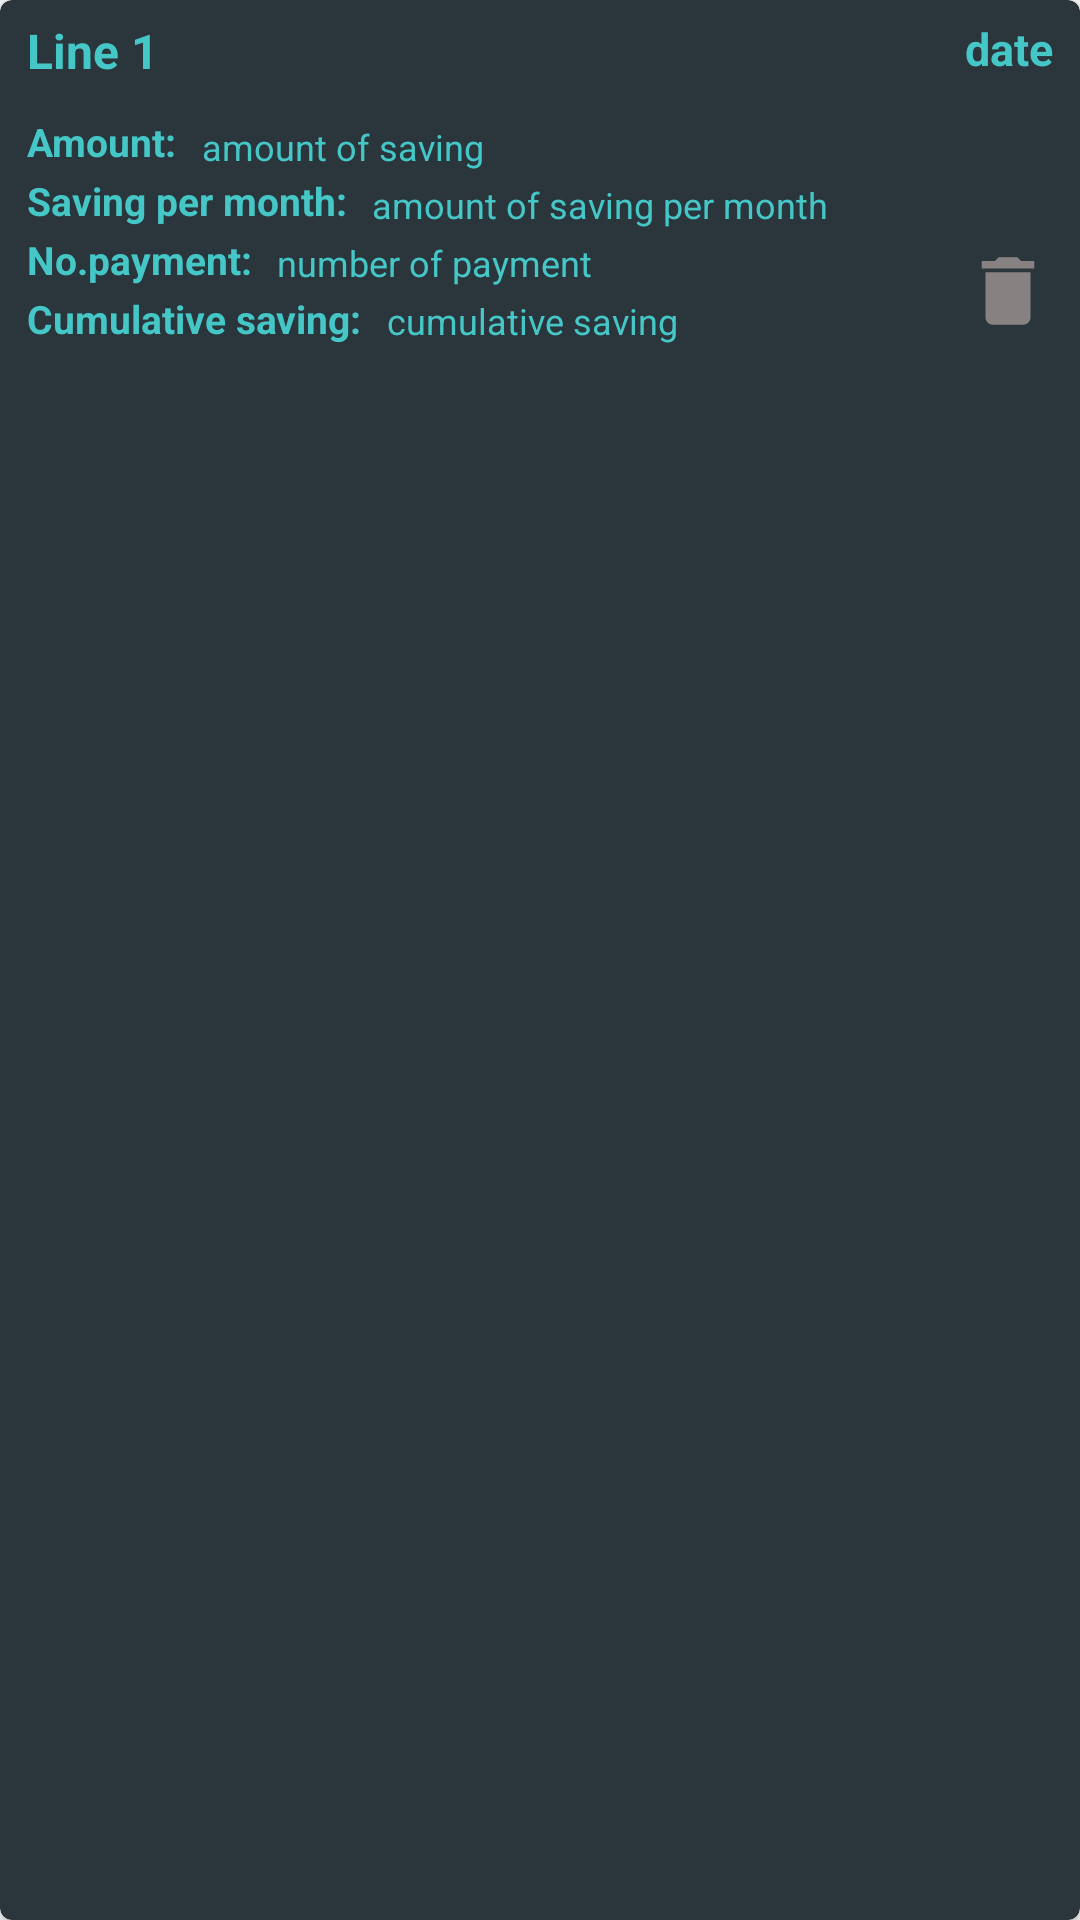

Icons on this 1080*1920 Android screen, each with the point to tap as point (x, y):
delete: point (1008, 291)
